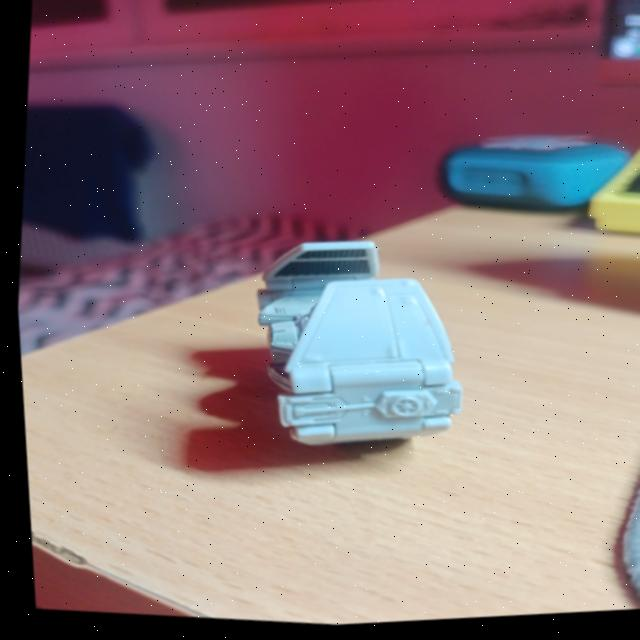tie fighter: (254, 245, 456, 447)
